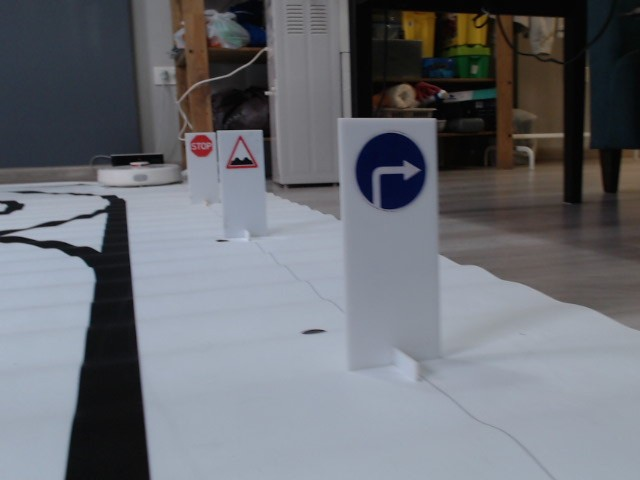Nerov: (225, 135, 260, 169)
Right: (354, 132, 428, 212)
Stop: (187, 134, 213, 157)
